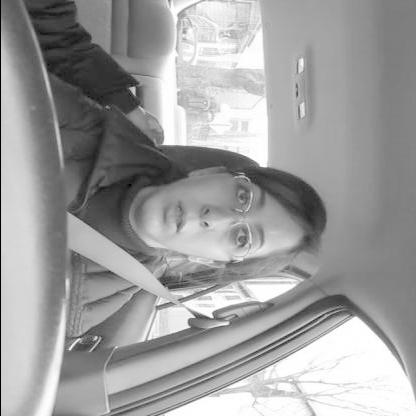seatbelt: (0, 144, 341, 332)
